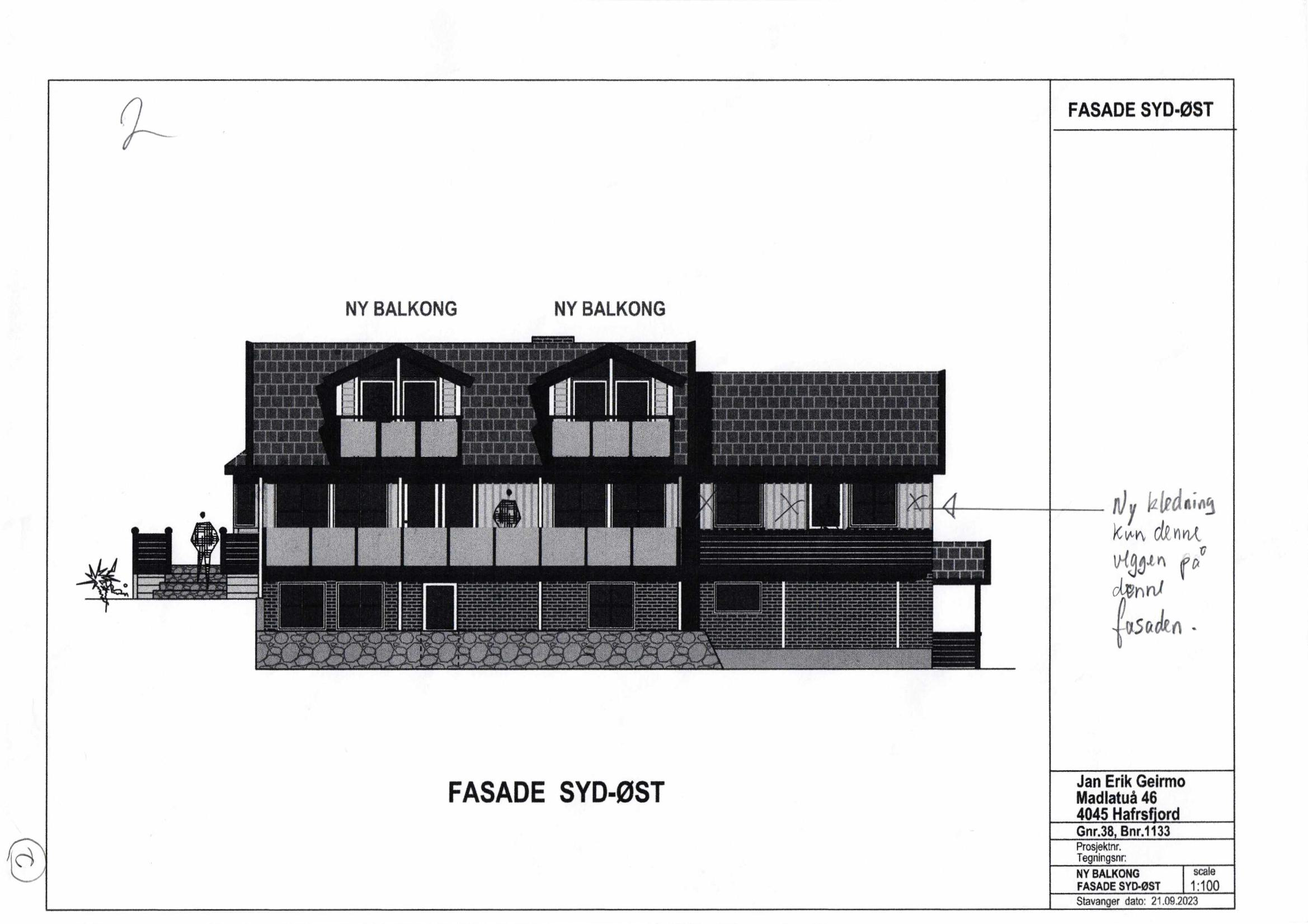fasade: (130, 342, 992, 670)
